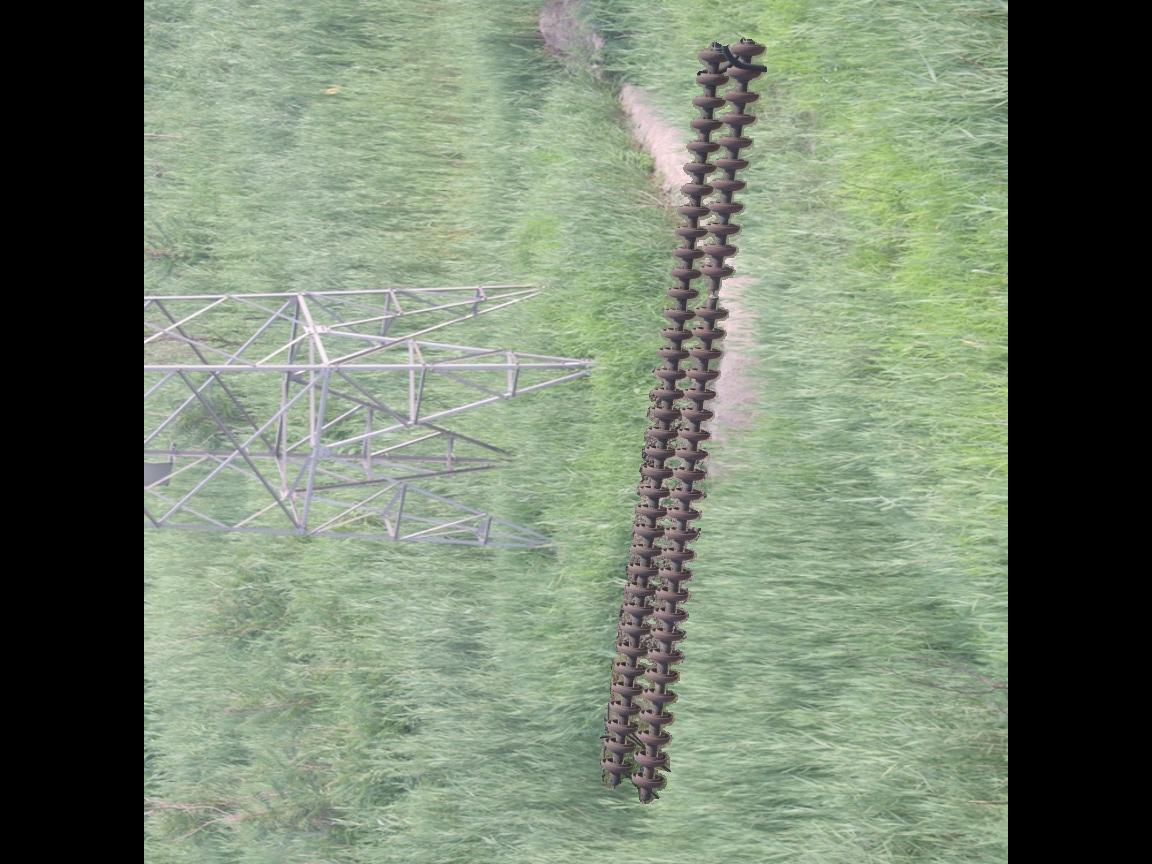insulator: (596, 30, 771, 803)
insulator_stringdrop: (690, 259, 737, 325)
